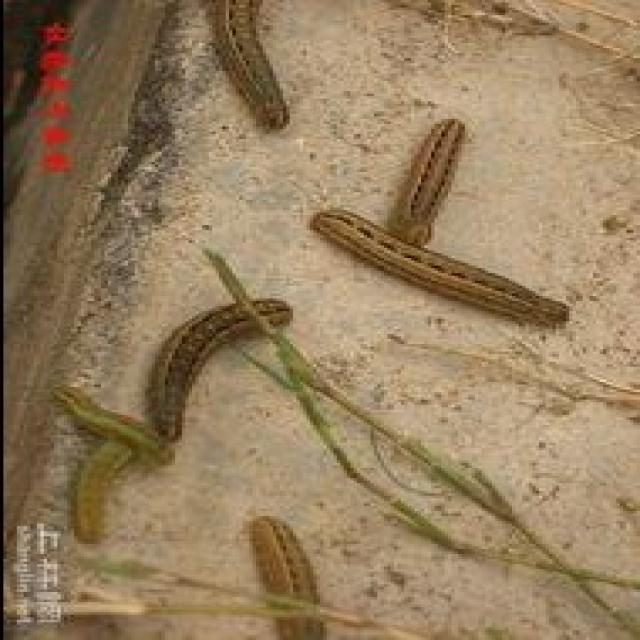army worm: (306, 211, 585, 332), (144, 287, 303, 454), (392, 109, 479, 243), (62, 428, 149, 550), (53, 383, 185, 459), (255, 512, 326, 638)
